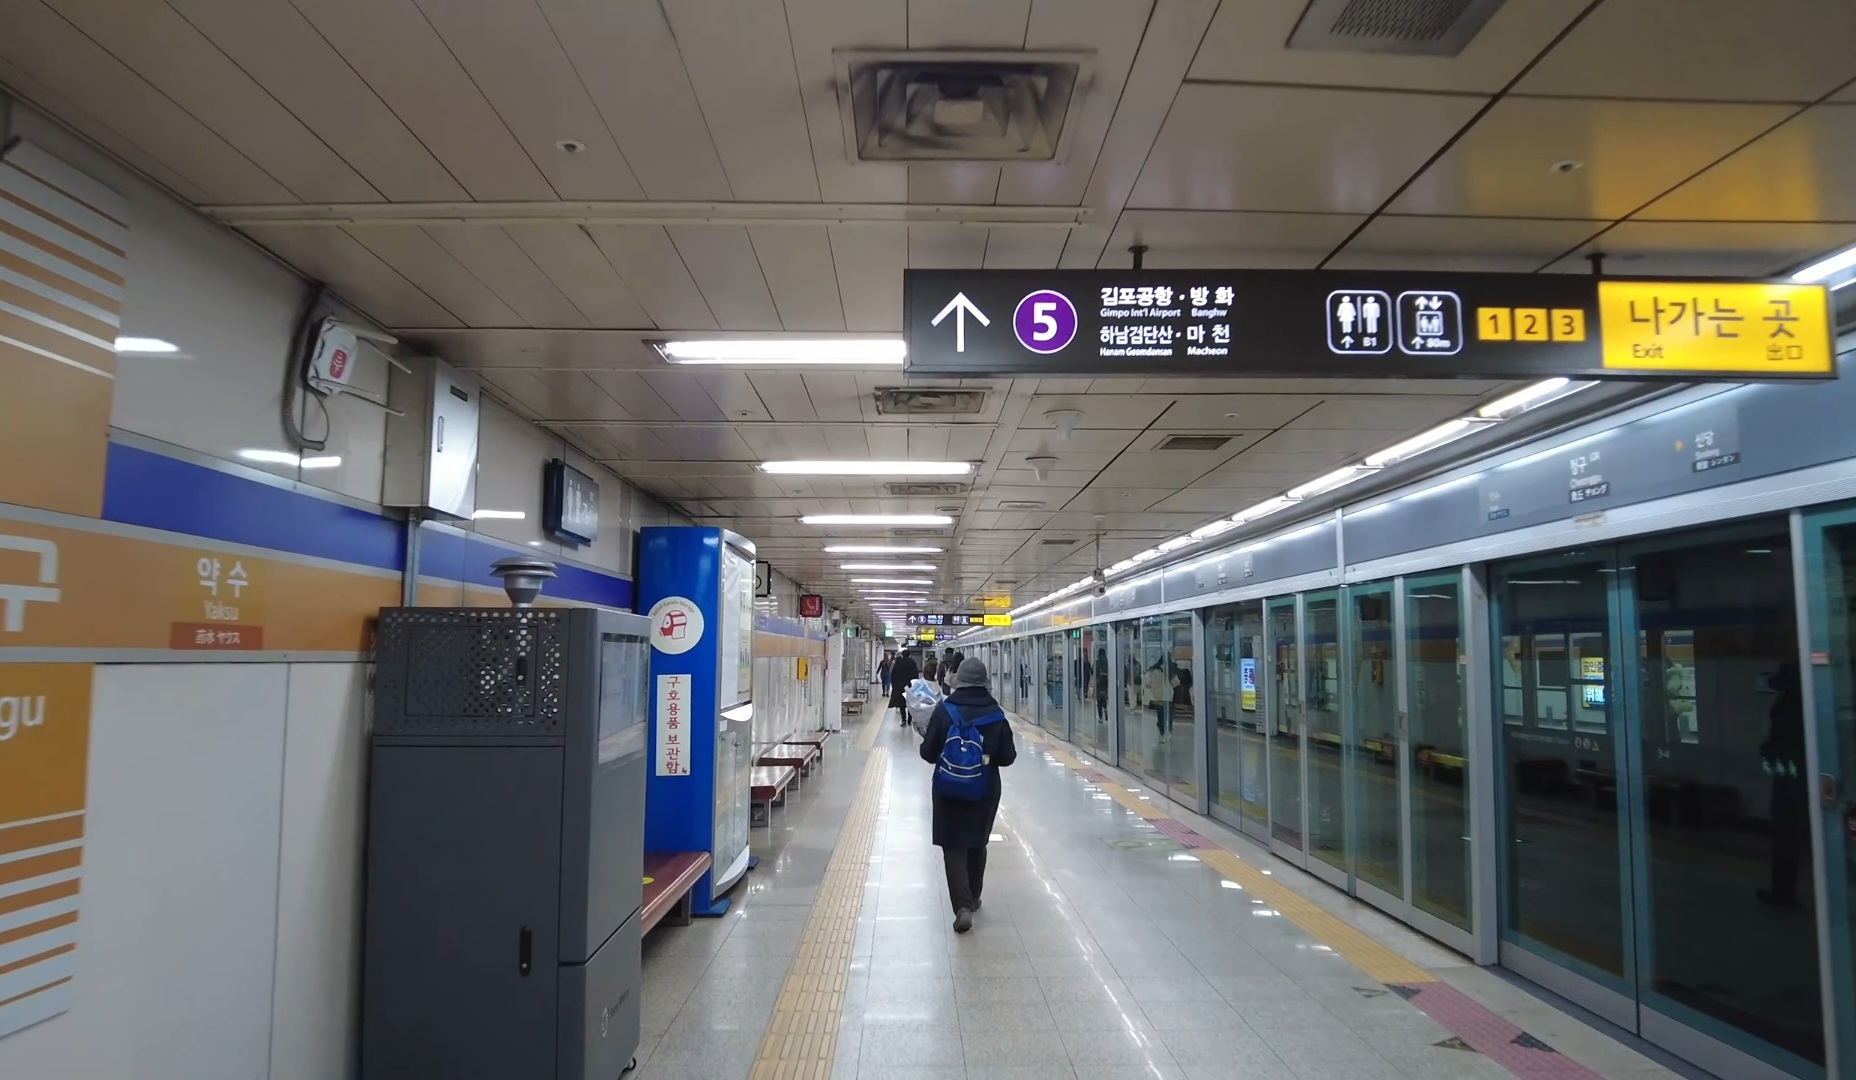signBoard: (892, 261, 1846, 387)
